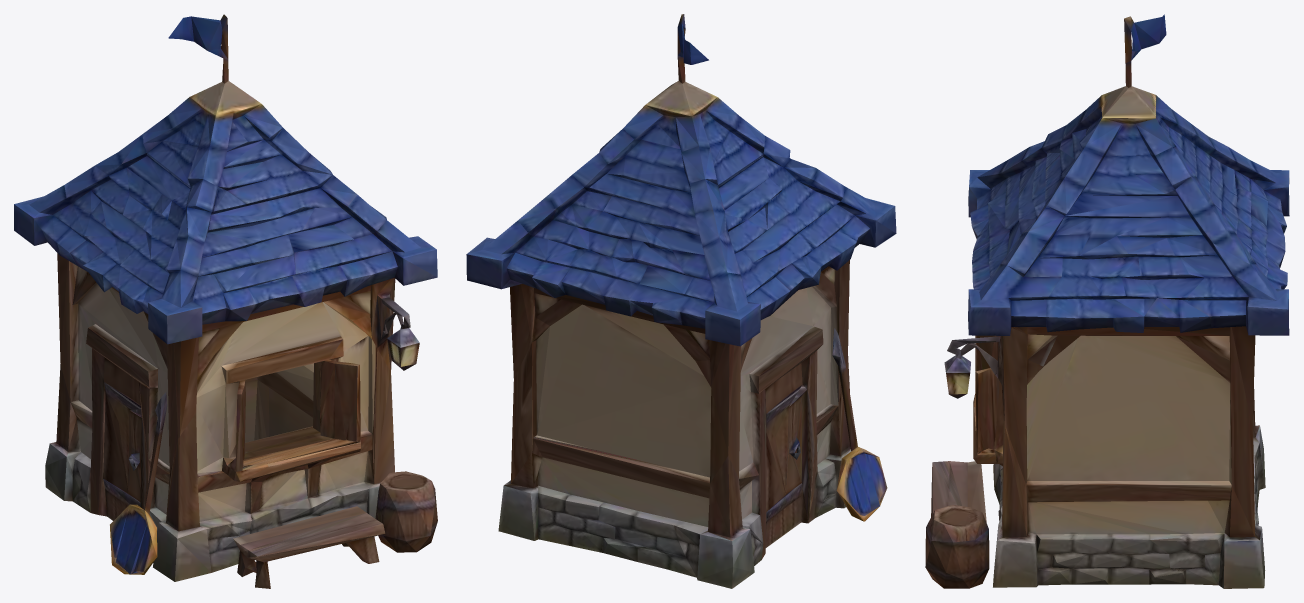
File: oc_guardpost.glb
The picture shows the model from 3 angles, left to right: view 1: azimuth 30°, elevation 25°; view 2: azimuth 150°, elevation 25°; view 3: azimuth 270°, elevation 25°; orthographic projection. The views are drawn at different scales.
Visible parts, largest first — view 1: W_guard_post_hut; view 2: W_guard_post_hut; view 3: W_guard_post_hut.
Part boxes in pixels (x1,y1,x2,y2): W_guard_post_hut: (14,14,437,588); W_guard_post_hut: (466,14,896,588); W_guard_post_hut: (925,14,1289,588).
Bounding box in the file's own units: 2.75 × 4.6 × 2.94.
Materials: 1 (1 with a texture image).
